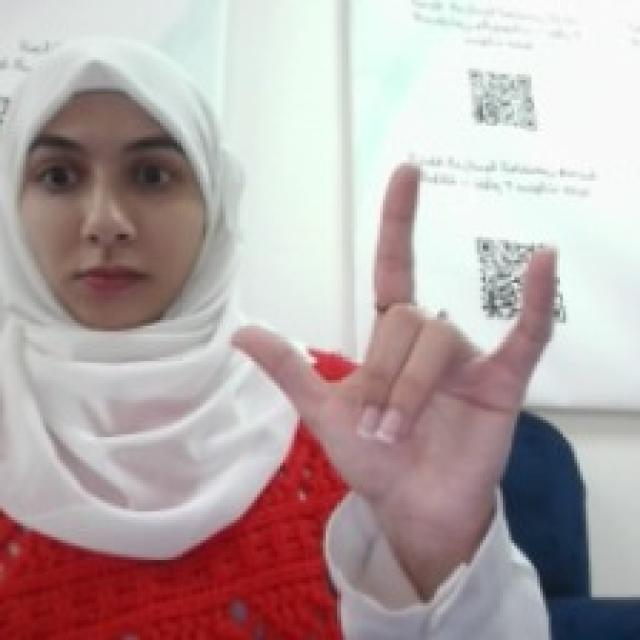love: (223, 154, 563, 523)
